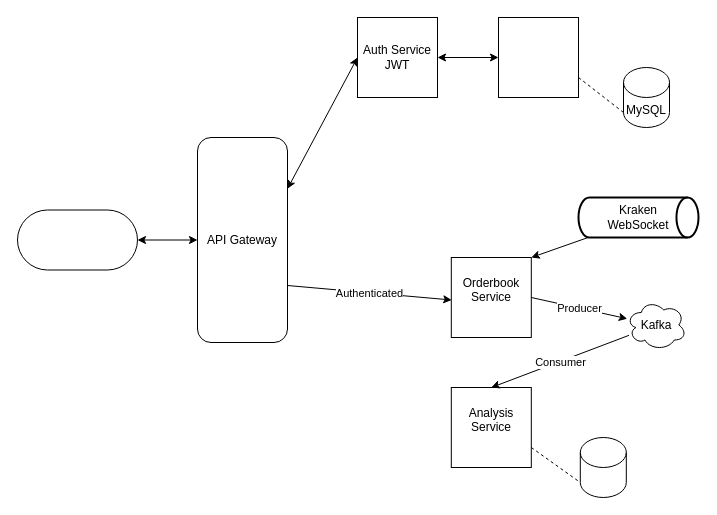
Some shapes in this 717 by 515 pixel diagram are drawn without their labels. Each missing label, with the centre of its shape:
"Client" belongs at (x=77, y=239).
"Redis" belongs at (x=602, y=467).
"User Service" belongs at (x=538, y=57).
